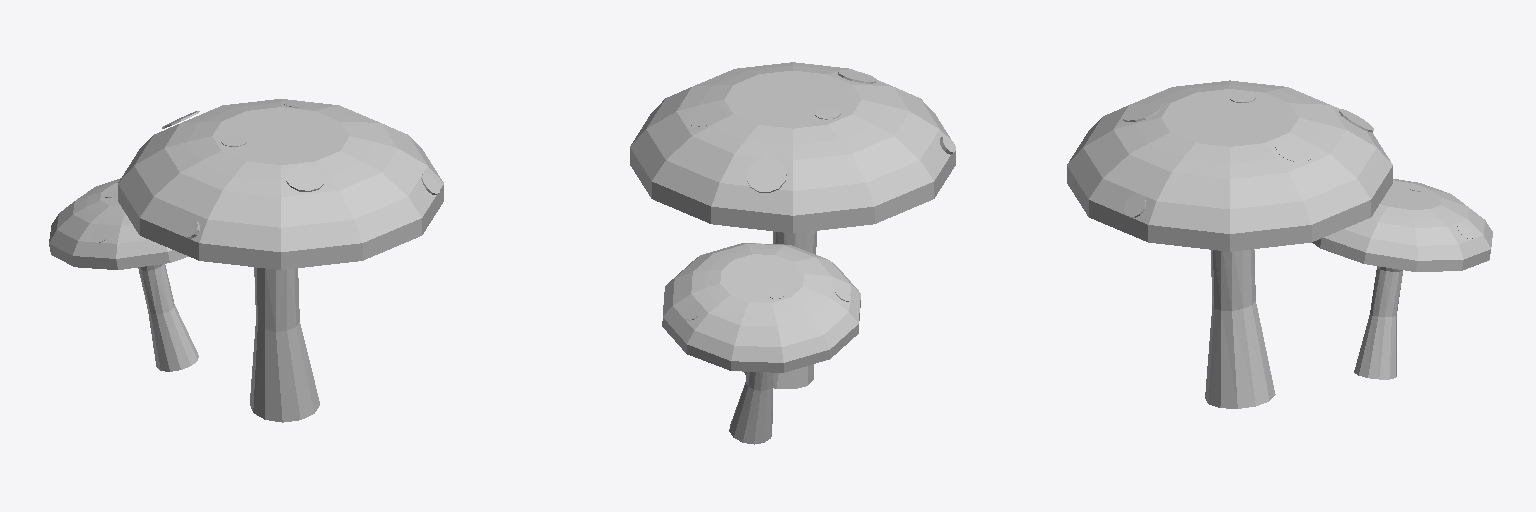
The model's file is Mushroom.obj.
The picture shows the model from 3 angles: view 1: azimuth 30°, elevation 25°; view 2: azimuth 150°, elevation 25°; view 3: azimuth 270°, elevation 25°; orthographic projection.
Bounding box in the file's own units: 0.49 × 0.4621 × 0.6401.